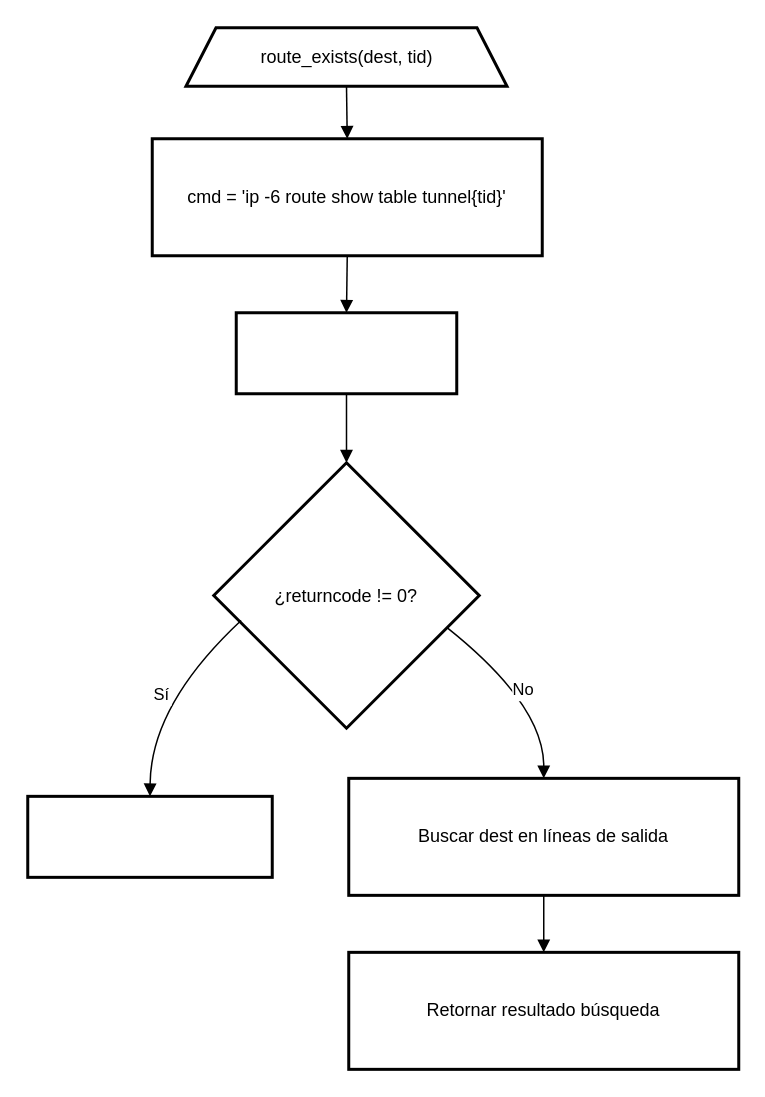
The diagram is 765 pixels wide and 1097 high, and some of its shapes have lost their labels. The centre of each missing label's shape, as x and y in pixels:
Retornar False: point 149,836
ssh_ru(cmd): point 346,352
